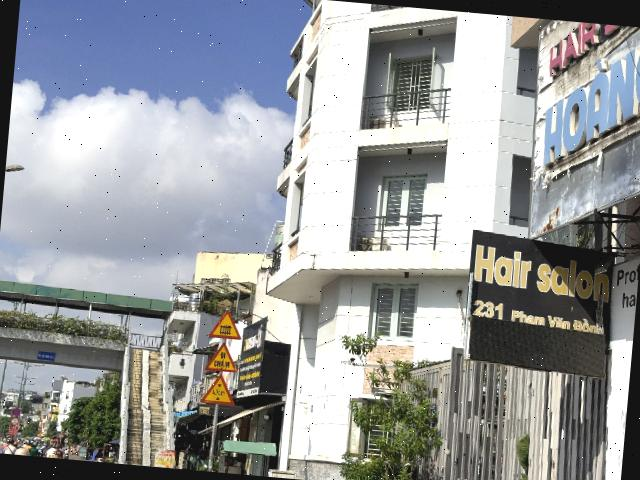chieu-cao-tinh-khong-thuc-te: (200, 372, 237, 406)
di-cham: (203, 340, 240, 372)
noi-giao-nhau-voi-duong-sat-co-rao-chan: (208, 308, 243, 340)
